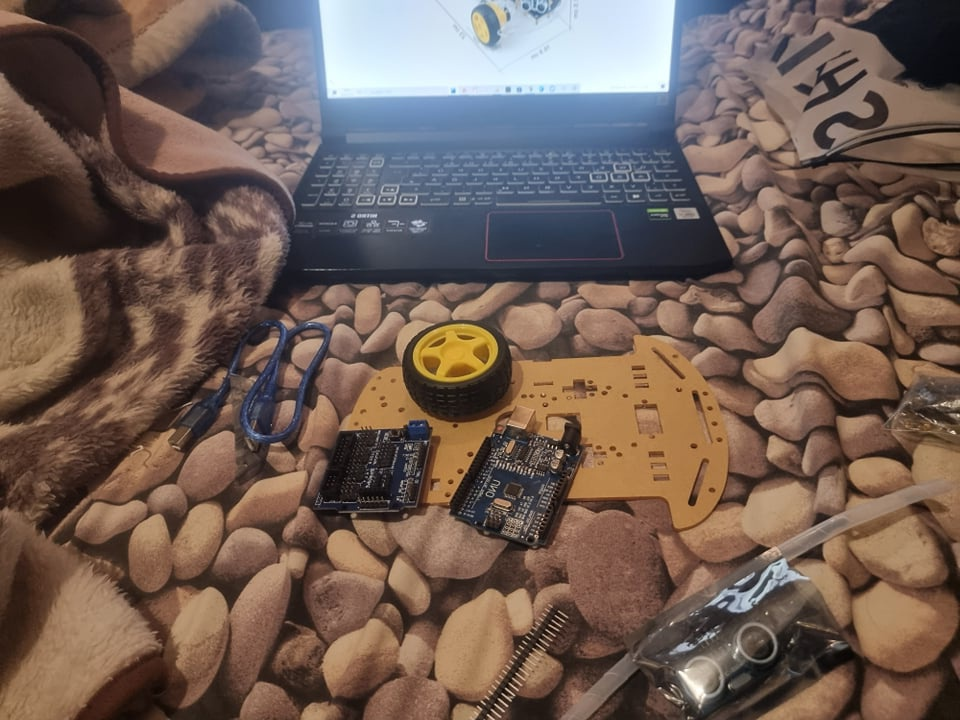5V EXPANSION: (314, 419, 434, 513)
SENSOR: (669, 621, 779, 710)
UNO R3: (446, 404, 588, 551)
